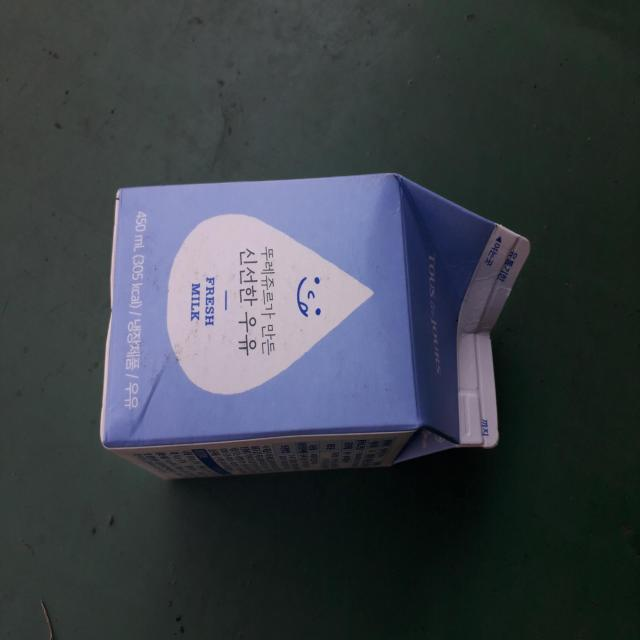paperpack: (100, 173, 531, 480)
